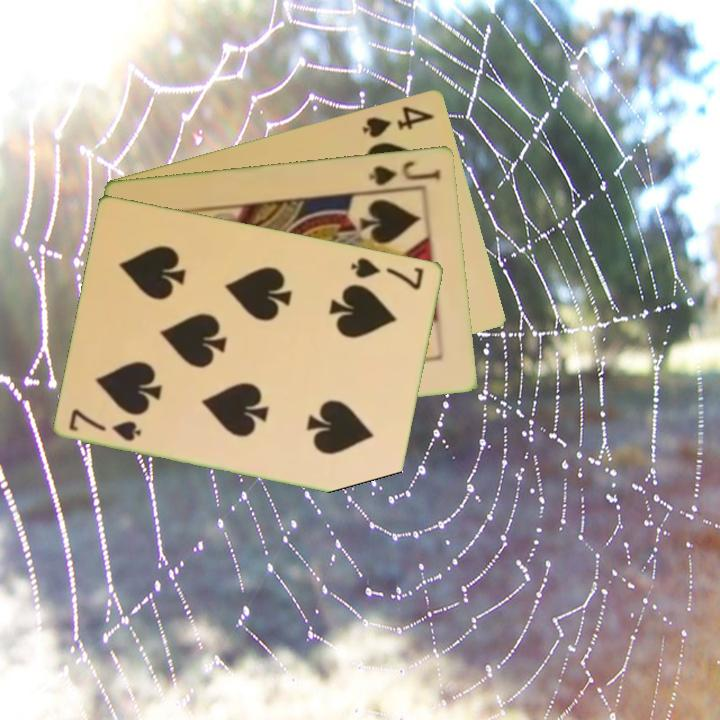4s: (359, 102, 437, 140)
7s: (65, 405, 145, 444), (348, 253, 427, 292)
Js: (366, 157, 444, 188)
